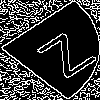Z: (25, 25, 99, 79)
